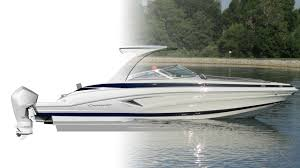boat: (12, 46, 296, 138)
